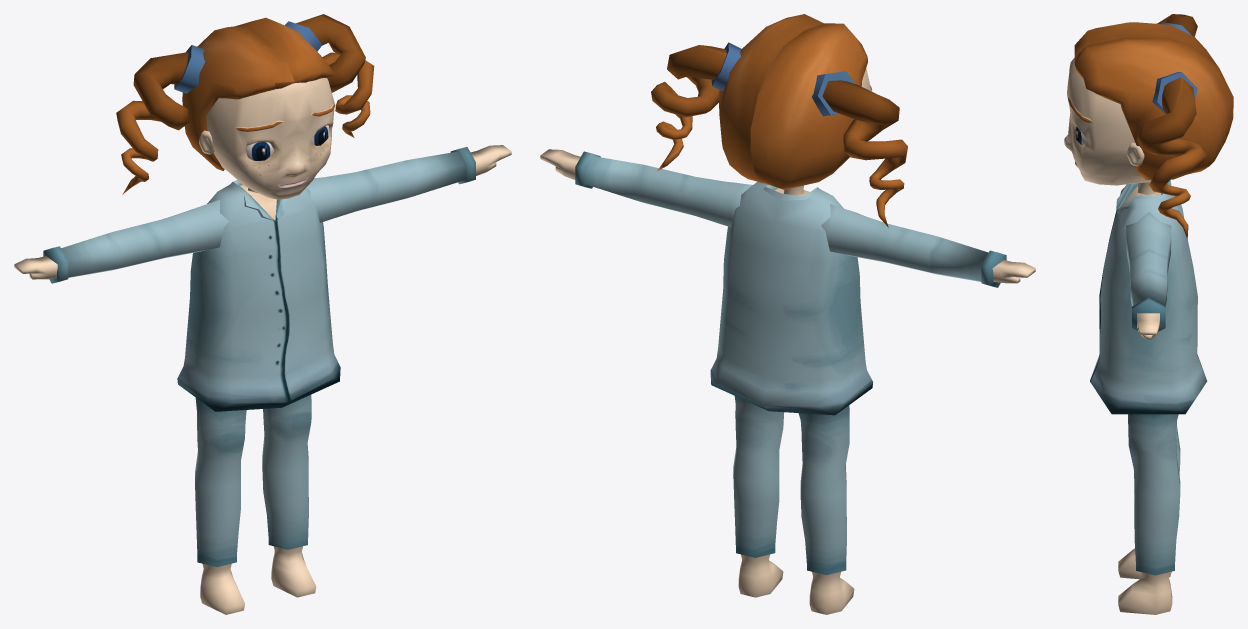
Rendered from girl_run.FBX.
The picture shows the model from 3 angles, left to right: view 1: azimuth 30°, elevation 25°; view 2: azimuth 150°, elevation 25°; view 3: azimuth 270°, elevation 25°; orthographic projection.
Parts seen in each view (by area): view 1: girl; view 2: girl; view 3: girl.
Boxes of the visible parts, <box> form: girl: <box>14,14,511,614</box>; girl: <box>540,14,1035,614</box>; girl: <box>1064,14,1233,614</box>.
Bounding box in the file's own units: 68.46 × 75.65 × 20.76.
